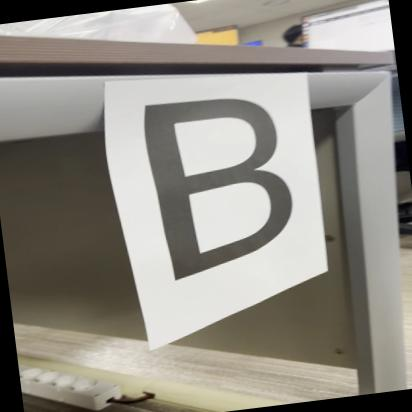seat: (71, 35, 354, 304)
